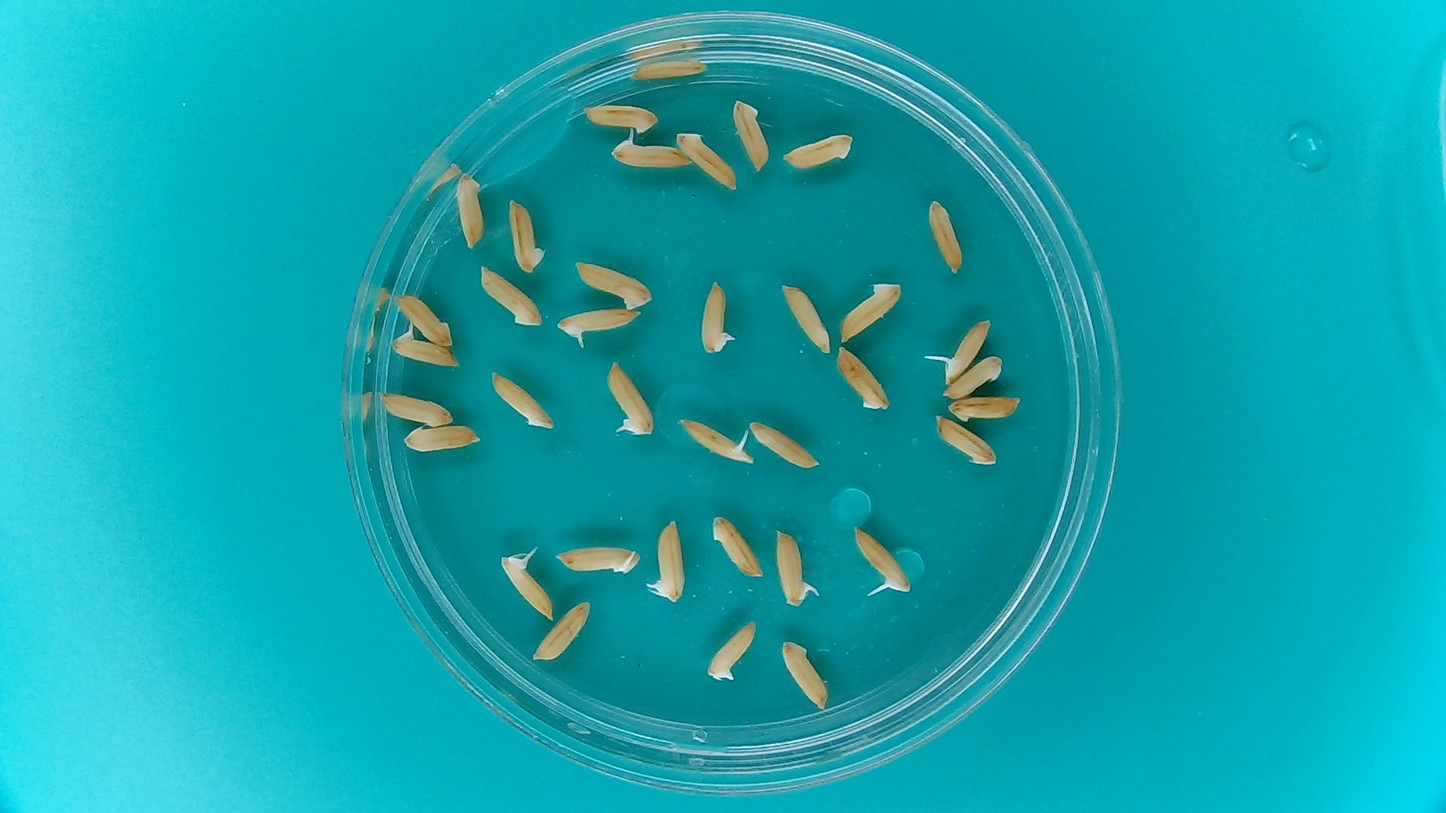no: (838, 283, 901, 344), (575, 260, 653, 309), (480, 266, 542, 327), (532, 600, 590, 663), (490, 373, 553, 429), (782, 282, 830, 355), (678, 131, 736, 190), (782, 640, 829, 712), (838, 344, 889, 410), (749, 421, 822, 467), (711, 516, 762, 578), (396, 293, 453, 346), (706, 620, 756, 680), (936, 416, 999, 463), (508, 197, 545, 273), (699, 279, 735, 357), (733, 99, 771, 172), (926, 201, 962, 273), (782, 133, 853, 169), (455, 172, 487, 251), (380, 391, 453, 425), (945, 355, 1003, 397), (584, 103, 658, 133), (404, 425, 481, 452), (633, 56, 708, 81), (950, 397, 1022, 422)
yes: (853, 527, 913, 596), (606, 360, 657, 437), (499, 552, 554, 620), (682, 418, 755, 464), (940, 318, 991, 382), (389, 320, 457, 367), (654, 519, 688, 601), (555, 309, 642, 341), (775, 532, 810, 607), (609, 136, 690, 167), (555, 547, 642, 574)
